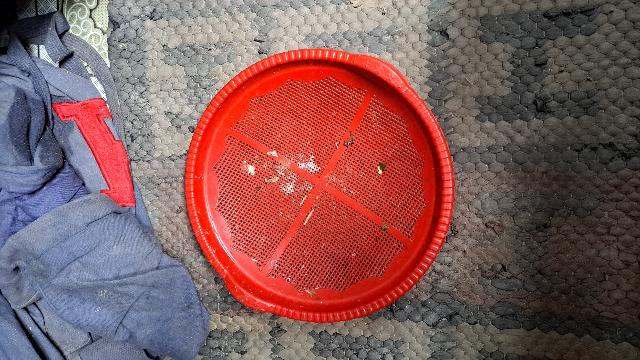hardplastic: (184, 48, 457, 325)
